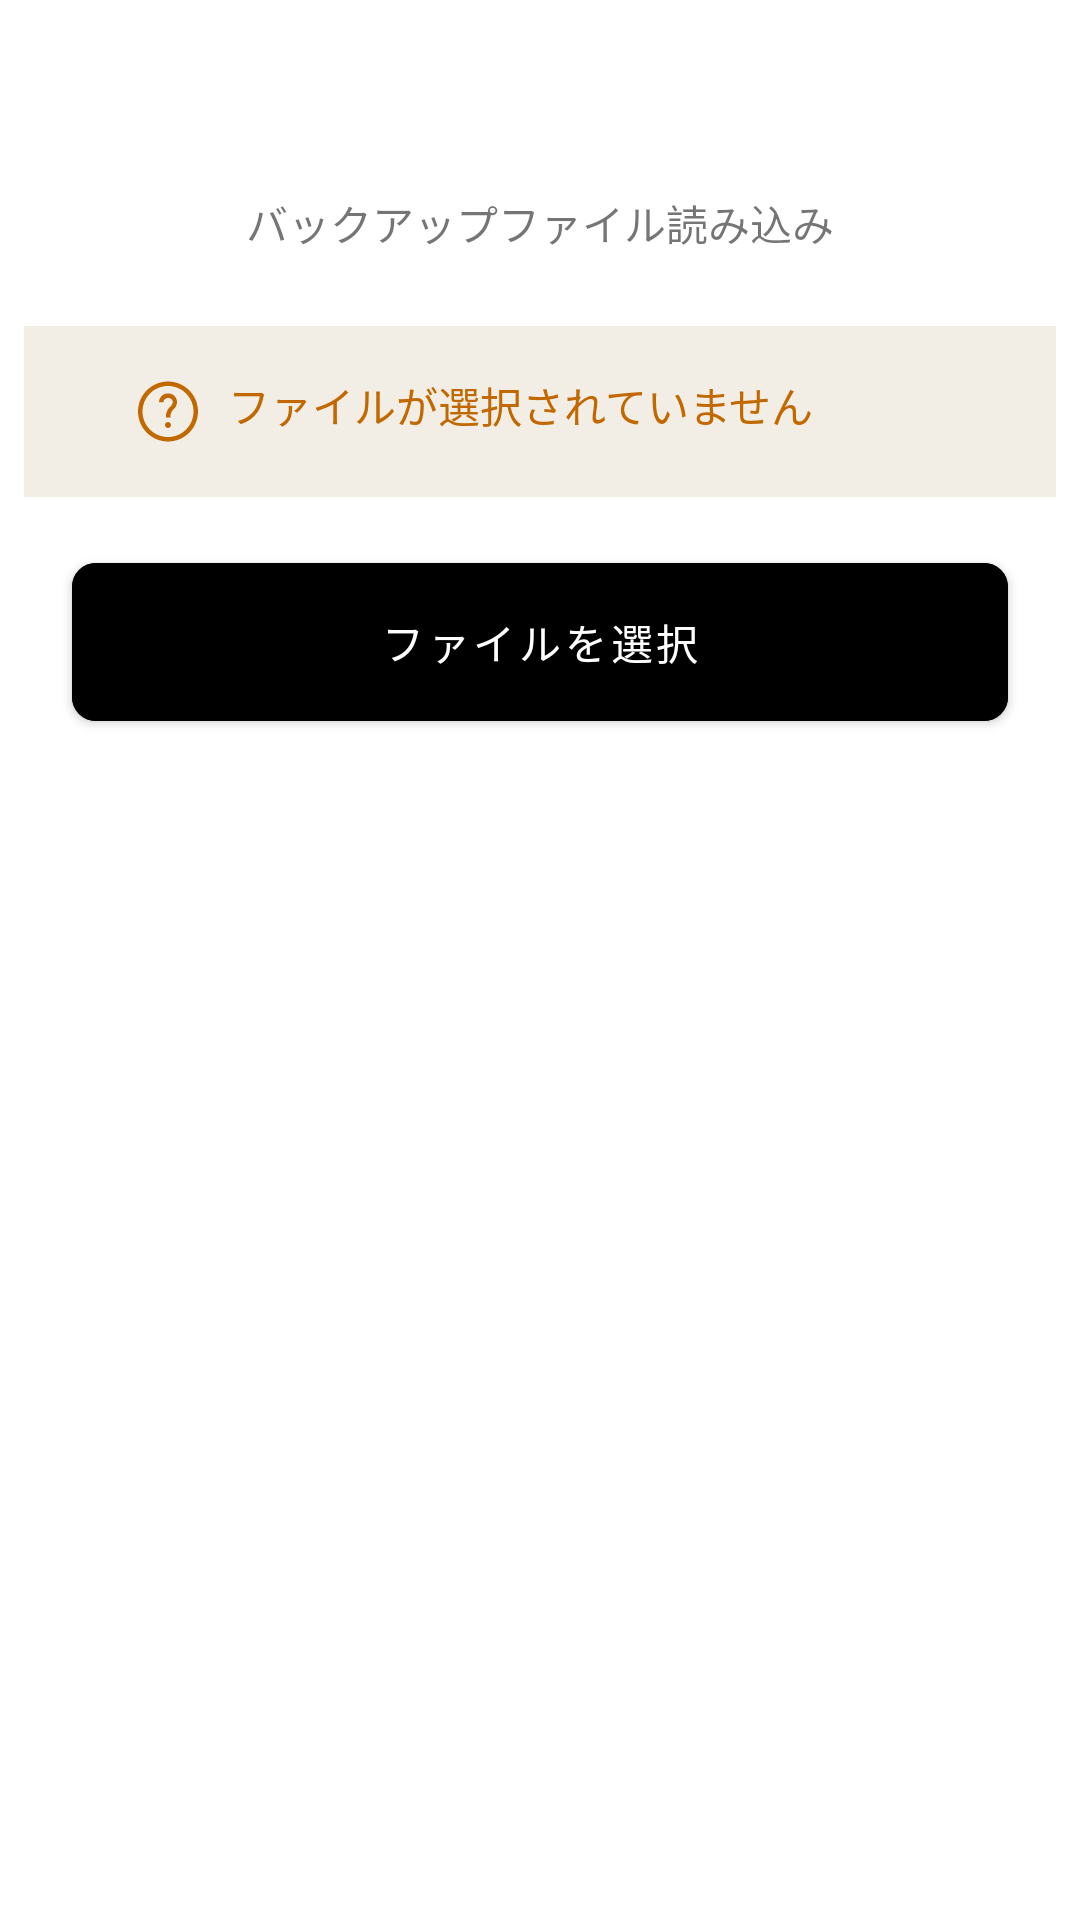

Locate icon controls on the screen. Image size 1080w x 1920h, boxes as (x1, y1, x2, y2).
question: (138, 381, 198, 442)
